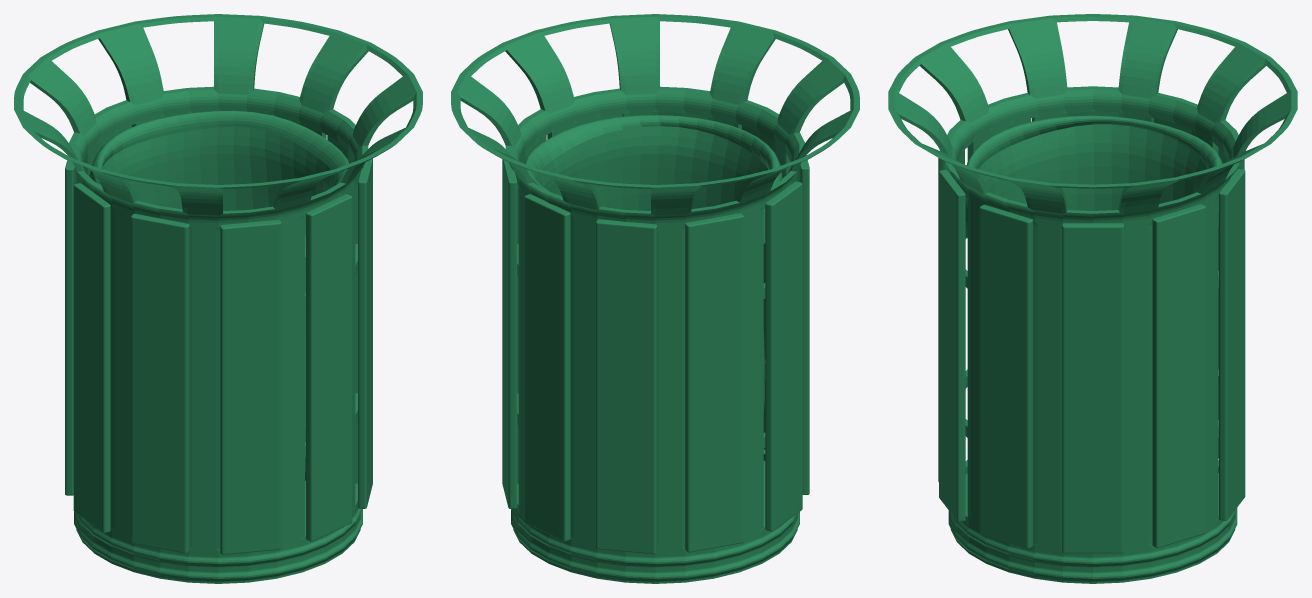
File: Bin.fbx
3 renders of one model, left to right at view 1: azimuth 30°, elevation 25°; view 2: azimuth 150°, elevation 25°; view 3: azimuth 270°, elevation 25°, orthographic.
Visible parts, largest first — view 1: Bin; view 2: Bin; view 3: Bin.
Part boxes in pixels (x1,y1,x2,y2): Bin: (14,14,422,583); Bin: (451,14,859,583); Bin: (888,14,1297,583).
Size of the model in its own units: 659 by 750 by 657.
